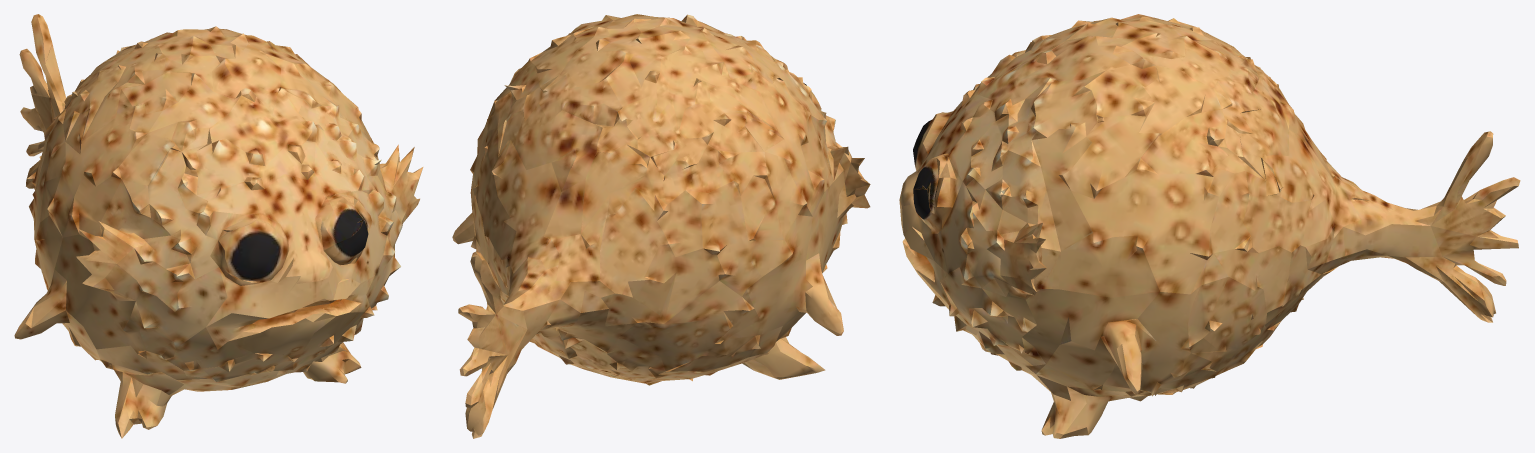
File: puffer-lamp.glb
3 renders of one model, left to right at view 1: azimuth 30°, elevation 25°; view 2: azimuth 150°, elevation 25°; view 3: azimuth 270°, elevation 25°, orthographic. The views are drawn at different scales.
Parts seen in each view (by area): view 1: output_unwrapped; view 2: output_unwrapped; view 3: output_unwrapped.
Part boxes in pixels (box(x1,y1,x2,y2)): output_unwrapped: box(14, 14, 423, 438); output_unwrapped: box(452, 14, 870, 438); output_unwrapped: box(899, 14, 1520, 438).
Size of the model in its own units: 1.42 by 1.2 by 1.9.
Materials: 1 (1 with a texture image).
